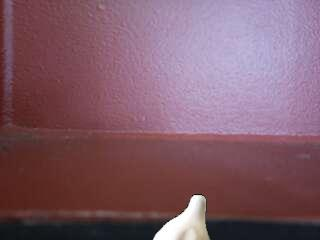Garlic: (153, 194, 210, 240)
